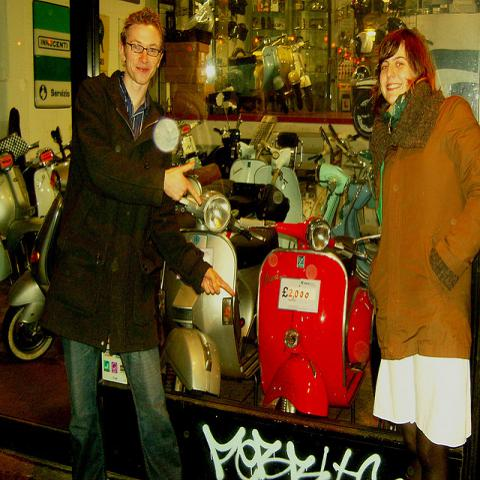motorcycle: (237, 211, 375, 418), (160, 186, 272, 394), (0, 160, 71, 363), (332, 140, 381, 290), (221, 34, 289, 113), (0, 147, 32, 279), (254, 140, 302, 220), (21, 144, 70, 216), (315, 161, 357, 230), (272, 34, 304, 112), (229, 140, 270, 184)
